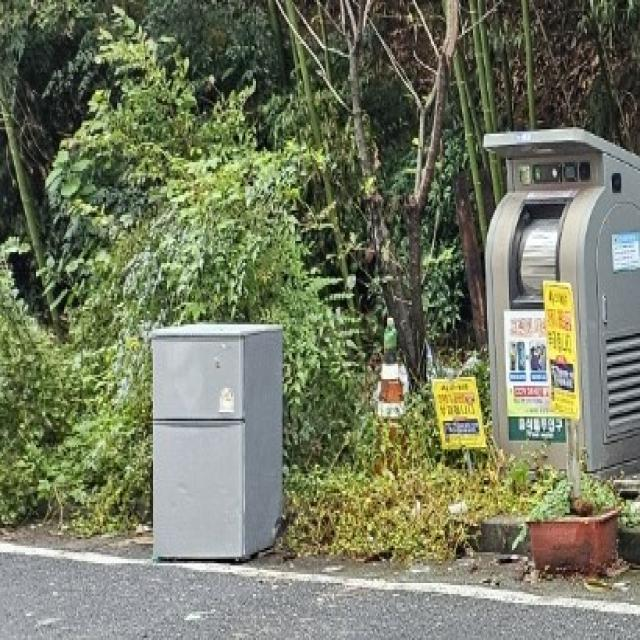CleanNet: (466, 119, 640, 507)
Large Waste Items: (143, 305, 293, 582)
